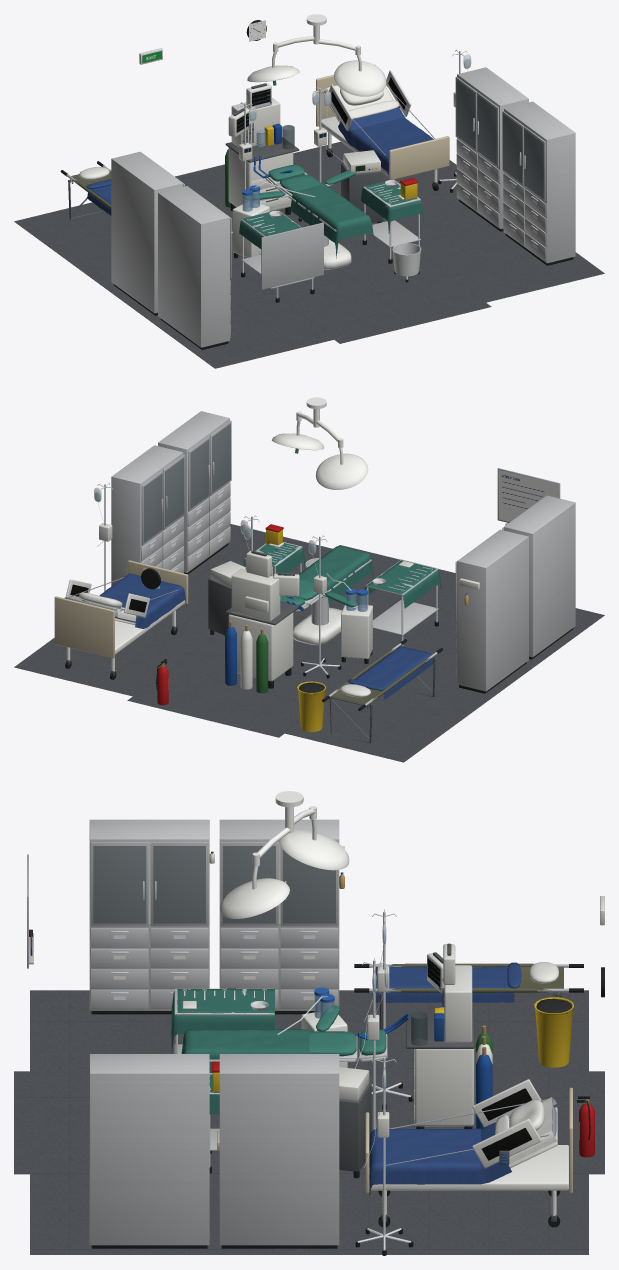
File: ehmecc-fitout-operating-room.glb
3 views of the same model, one above another, from view 1: azimuth 30°, elevation 25°; view 2: azimuth 150°, elevation 25°; view 3: azimuth 270°, elevation 25° (orthographic). The views are drawn at different scales.
Visible parts, largest first — view 1: EHMECC_fitout; view 2: EHMECC_fitout; view 3: EHMECC_fitout.
Boxes of the visible parts, x1,y1,x2,y2 form: EHMECC_fitout: [14, 14, 604, 368]; EHMECC_fitout: [14, 397, 604, 762]; EHMECC_fitout: [14, 791, 604, 1255].
Size of the model in its own units: 6.28 by 3.61 by 5.92.
Materials: 42 (12 with a texture image).
